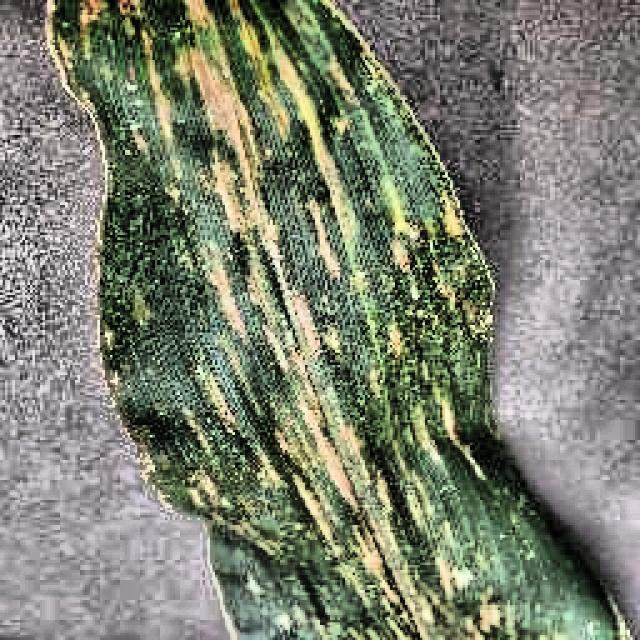gray_spot: (50, 0, 626, 640)
